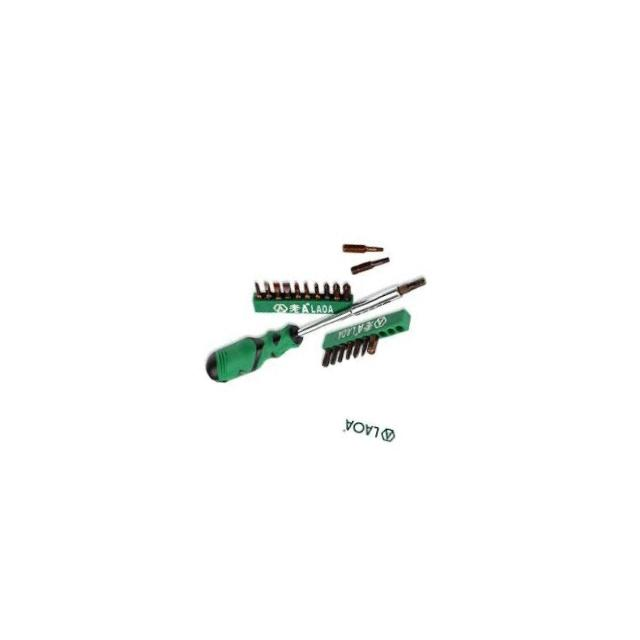screwdriver: (199, 231, 429, 428)
